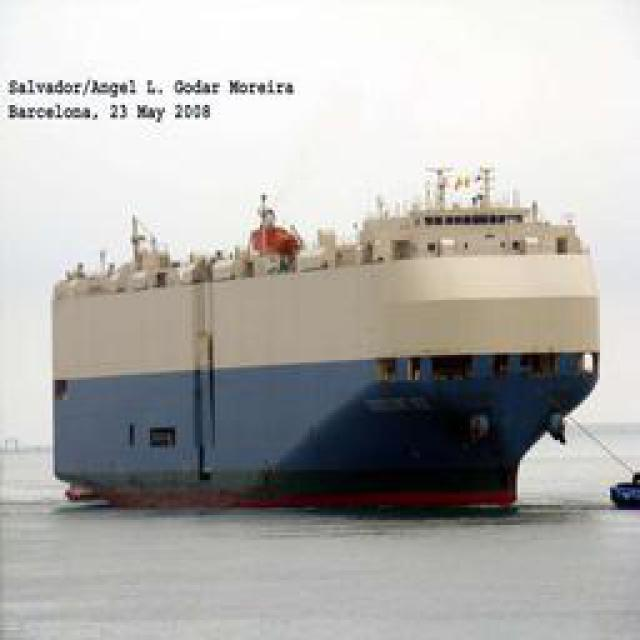Ship: (55, 170, 600, 513)
